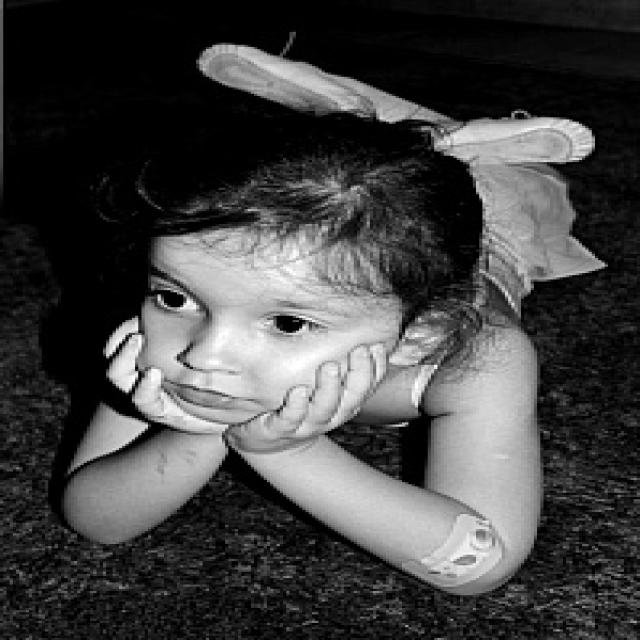Eyes: (148, 269, 340, 345)
